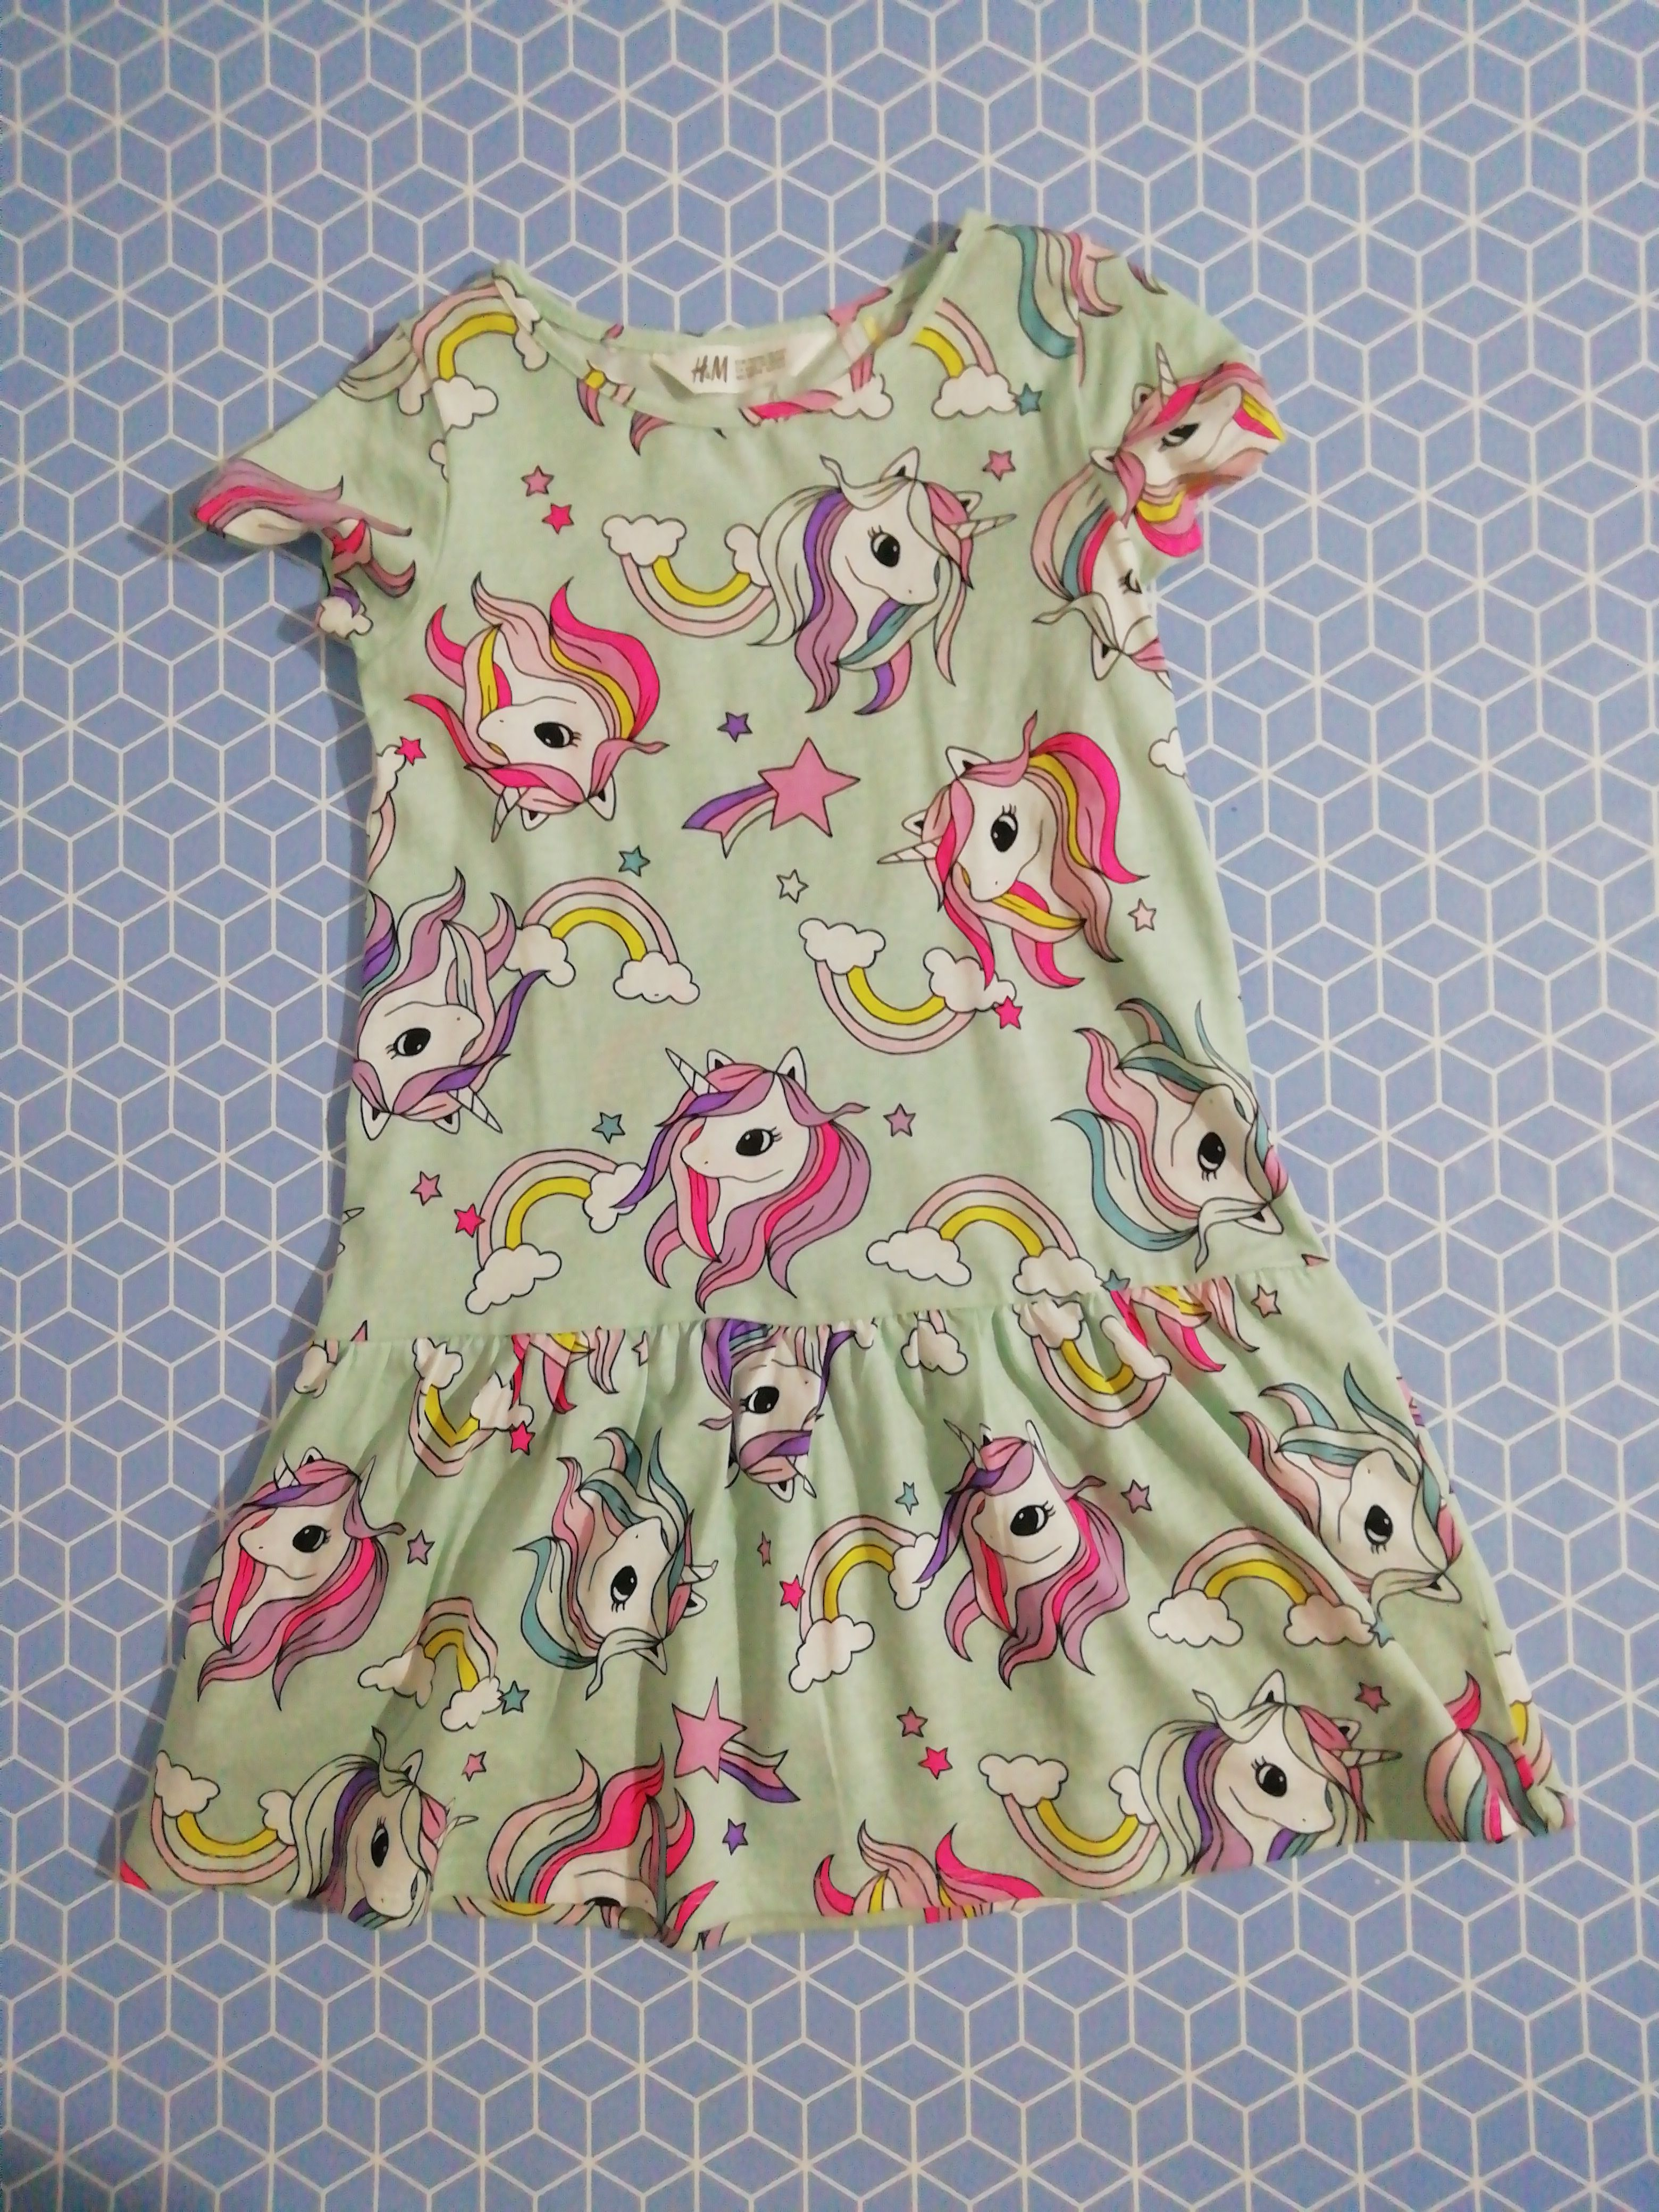clothes: (122, 202, 1565, 1897)
